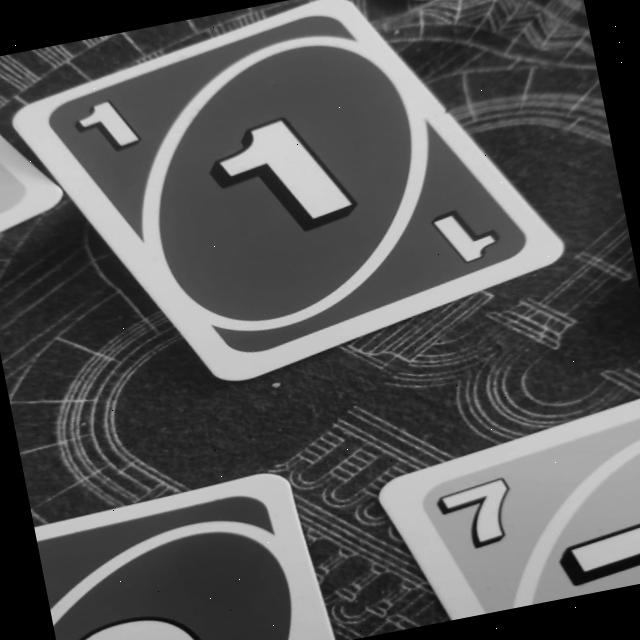card_1: (0, 0, 579, 414)
card_7: (366, 384, 640, 630)
card_9: (32, 464, 338, 640)
